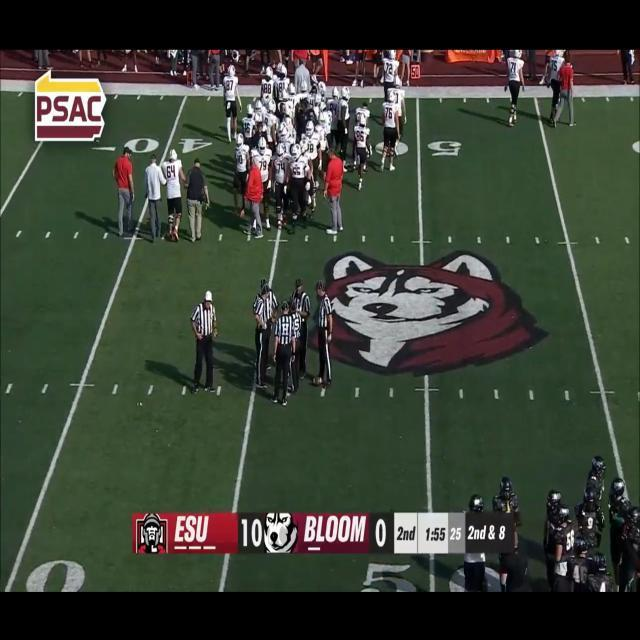football: (310, 372, 325, 394)
